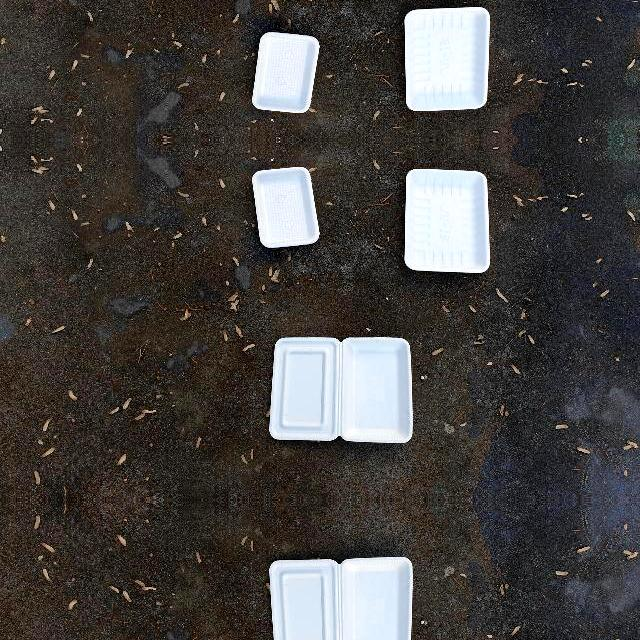Styrofoam: (267, 334, 417, 446), (270, 337, 413, 443), (267, 554, 417, 640), (270, 557, 413, 640), (402, 5, 492, 114), (402, 166, 492, 274), (405, 168, 491, 272), (405, 8, 491, 112), (254, 166, 320, 250), (254, 30, 320, 114), (252, 166, 320, 247), (252, 33, 320, 114)
